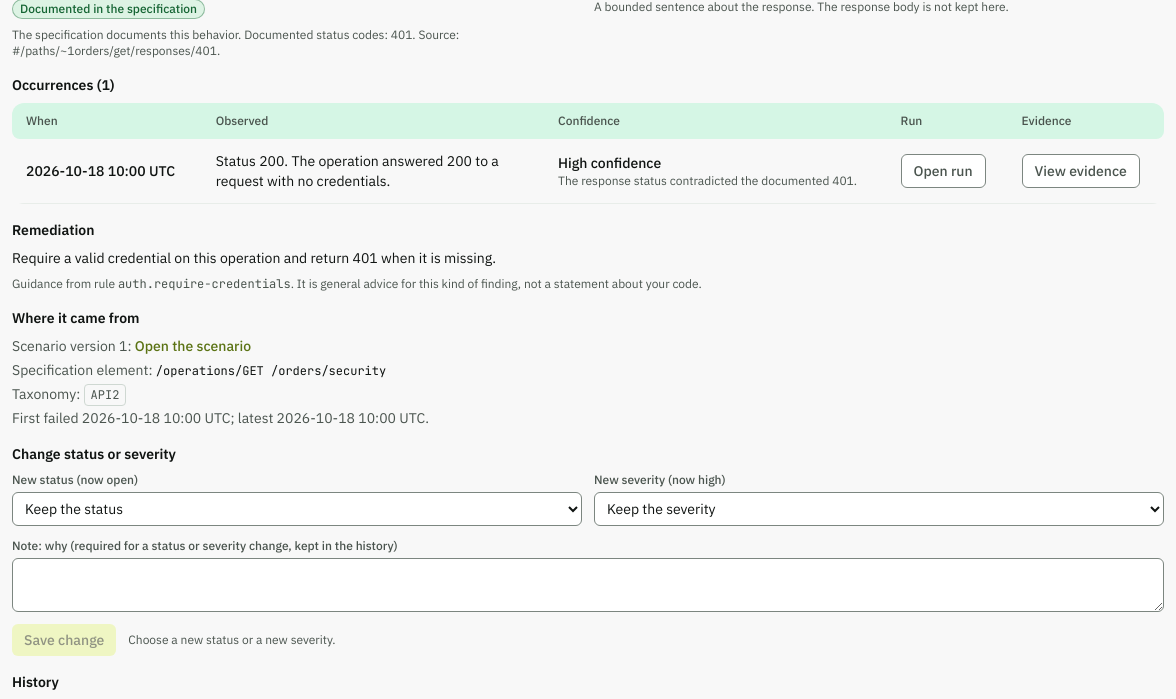
Test case: FindingDetail (T123, FR-054 to FR-059) › changing status or severity › shows a refused change with the server's reason and keeps what was typed
(page scrolled)
Select "Resolved" in the dropdown labelled "New status (now open)" at (297, 509), box [12, 492, 582, 526]
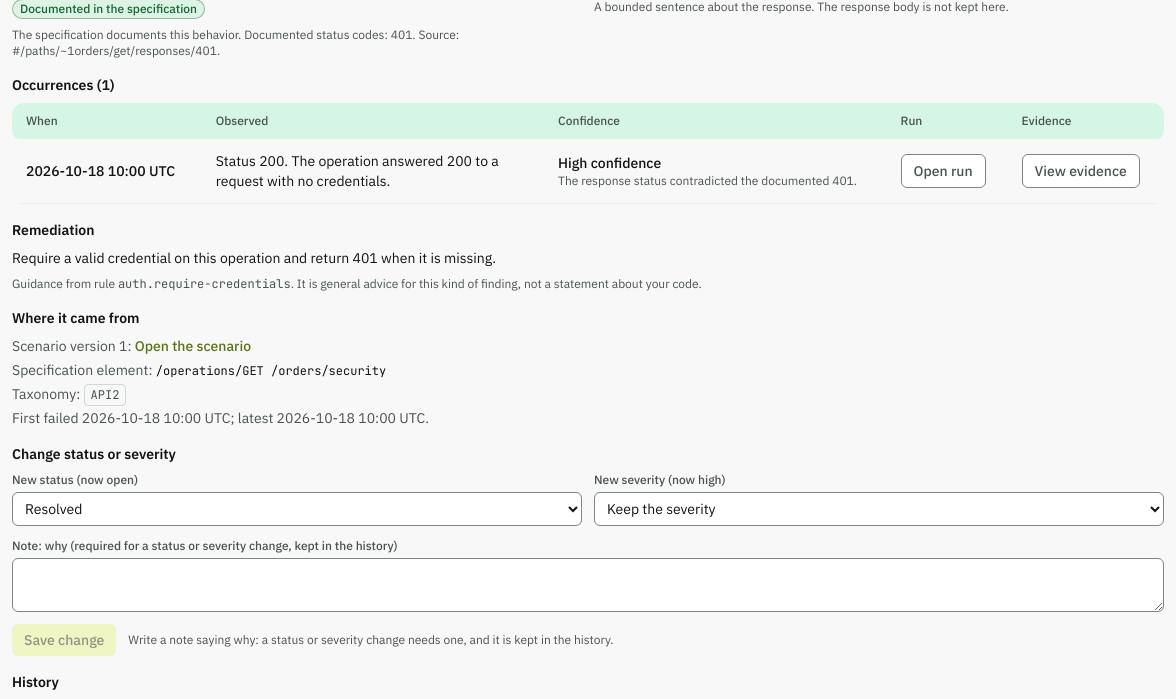
Type "x" into the text box labelled "Note: why" at (588, 585), box [12, 558, 1164, 612]
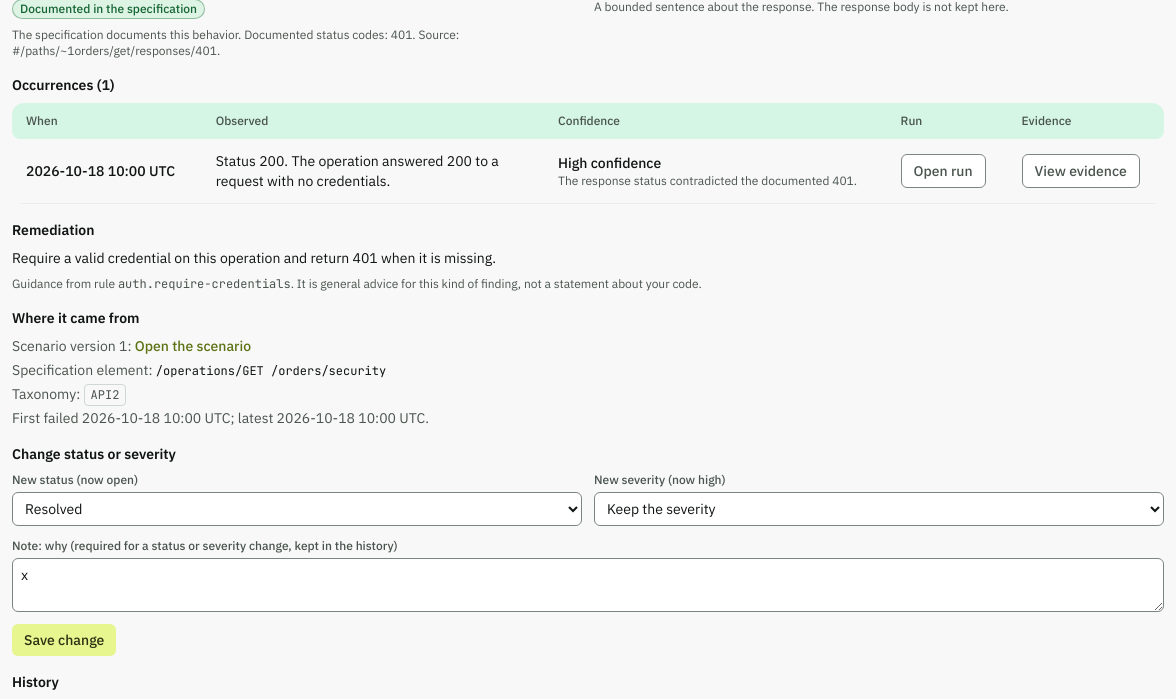
Click the button "Save change" at (64, 640), box [12, 624, 116, 656]
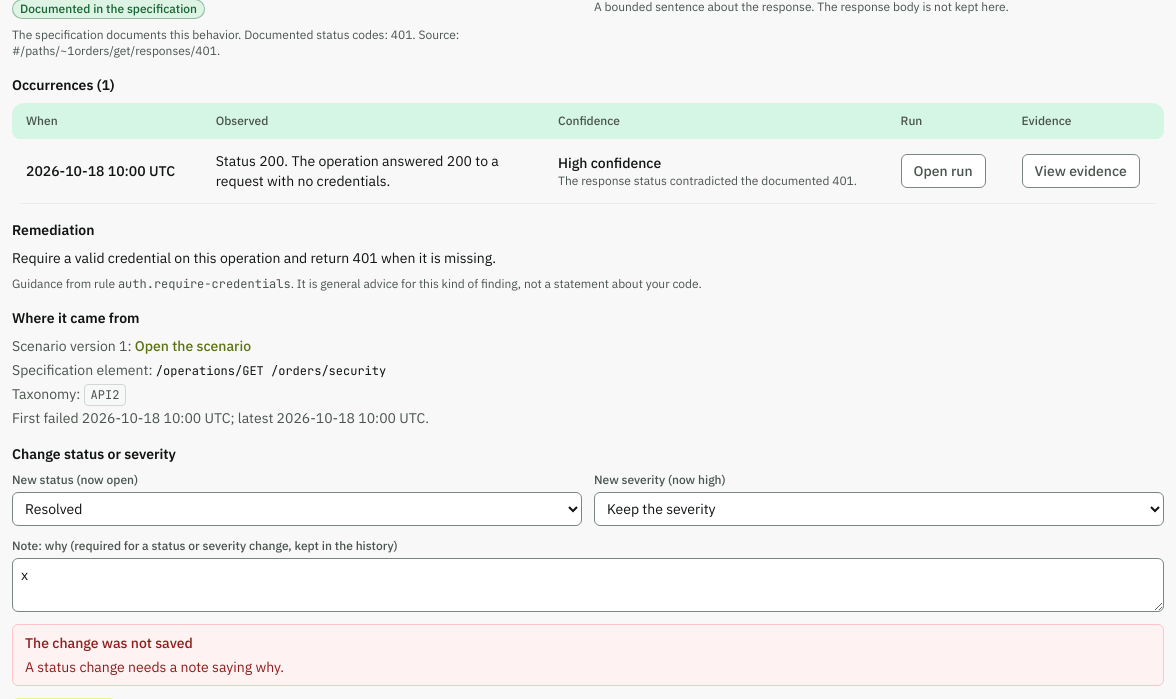
Now the message with test id "finding-update-error" shows "A status change needs a note saying why.", box [25, 658, 284, 676]
